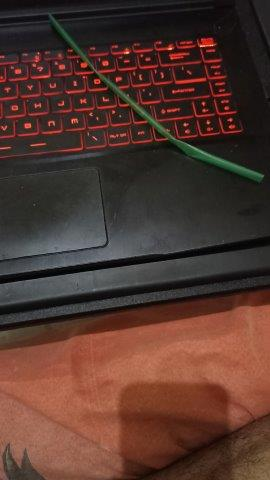sedotan: (49, 13, 262, 181)
